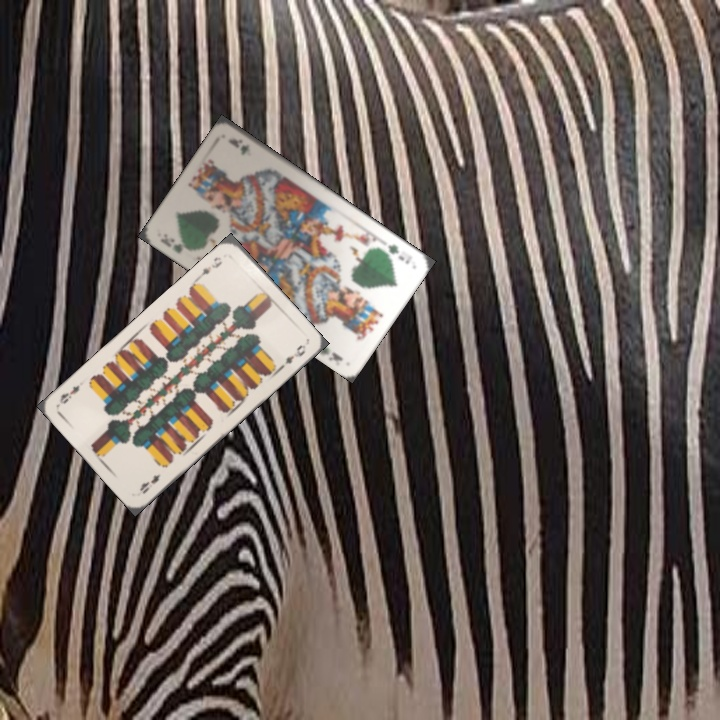E9: (194, 253, 225, 281), (136, 470, 163, 497)
GK: (383, 240, 415, 267), (156, 234, 185, 256)
